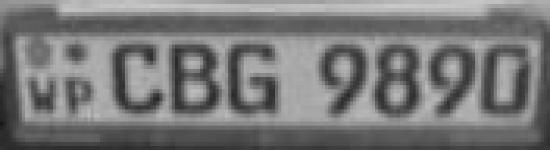0: (480, 40, 537, 120)
8: (372, 35, 425, 122)
9: (427, 37, 480, 124), (314, 37, 369, 118)
B: (167, 35, 225, 122)
C: (104, 39, 166, 116)
G: (226, 35, 286, 125)
P: (61, 72, 98, 122)
W: (27, 69, 61, 120)
